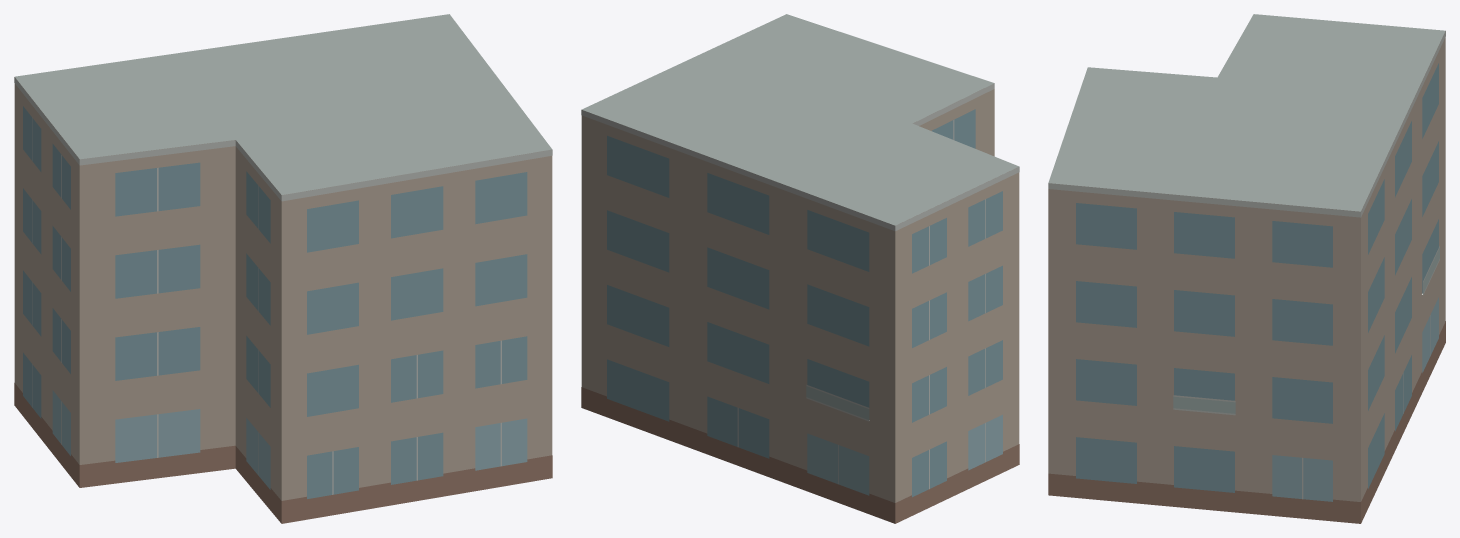
Rendered from survey-upis-32853879.glb.
The picture shows the model from 3 angles, left to right: view 1: azimuth 30°, elevation 25°; view 2: azimuth 150°, elevation 25°; view 3: azimuth 270°, elevation 25°; orthographic projection. The views are drawn at different scales.
Visible parts, largest first — view 1: survey-upis-32853879.tmp; view 2: survey-upis-32853879.tmp; view 3: survey-upis-32853879.tmp.
Part boxes in pixels (<box>): survey-upis-32853879.tmp: <box>14,14,552,523</box>; survey-upis-32853879.tmp: <box>581,14,1019,523</box>; survey-upis-32853879.tmp: <box>1048,14,1445,523</box>.
Size of the model in its own units: 17.52 by 12.9 by 14.89.
